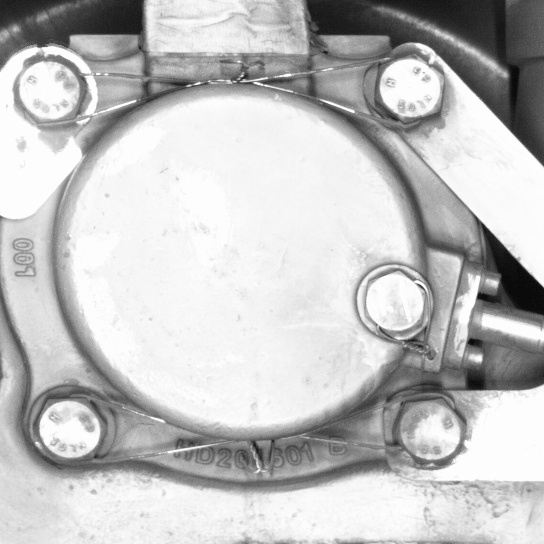IronWire: (20, 381, 468, 469), (10, 45, 448, 134)
Screw: (21, 380, 117, 469), (362, 45, 447, 134), (10, 46, 95, 134), (353, 261, 434, 343), (383, 388, 468, 466)
